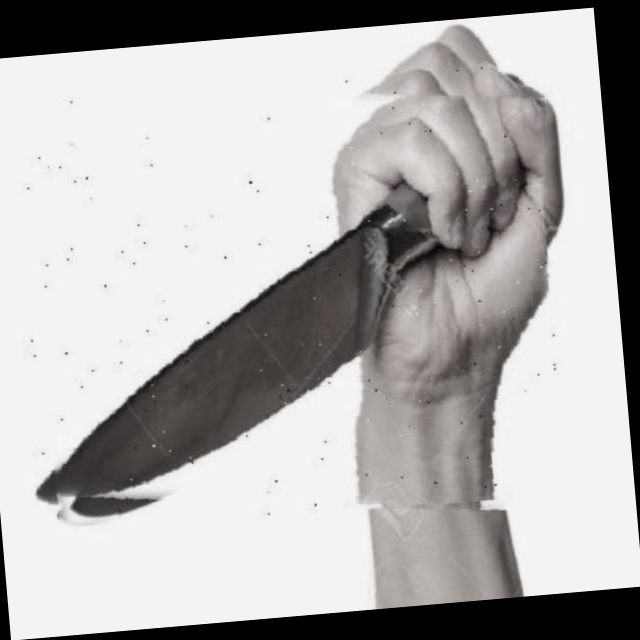Sharp-Object: (11, 62, 568, 539)
